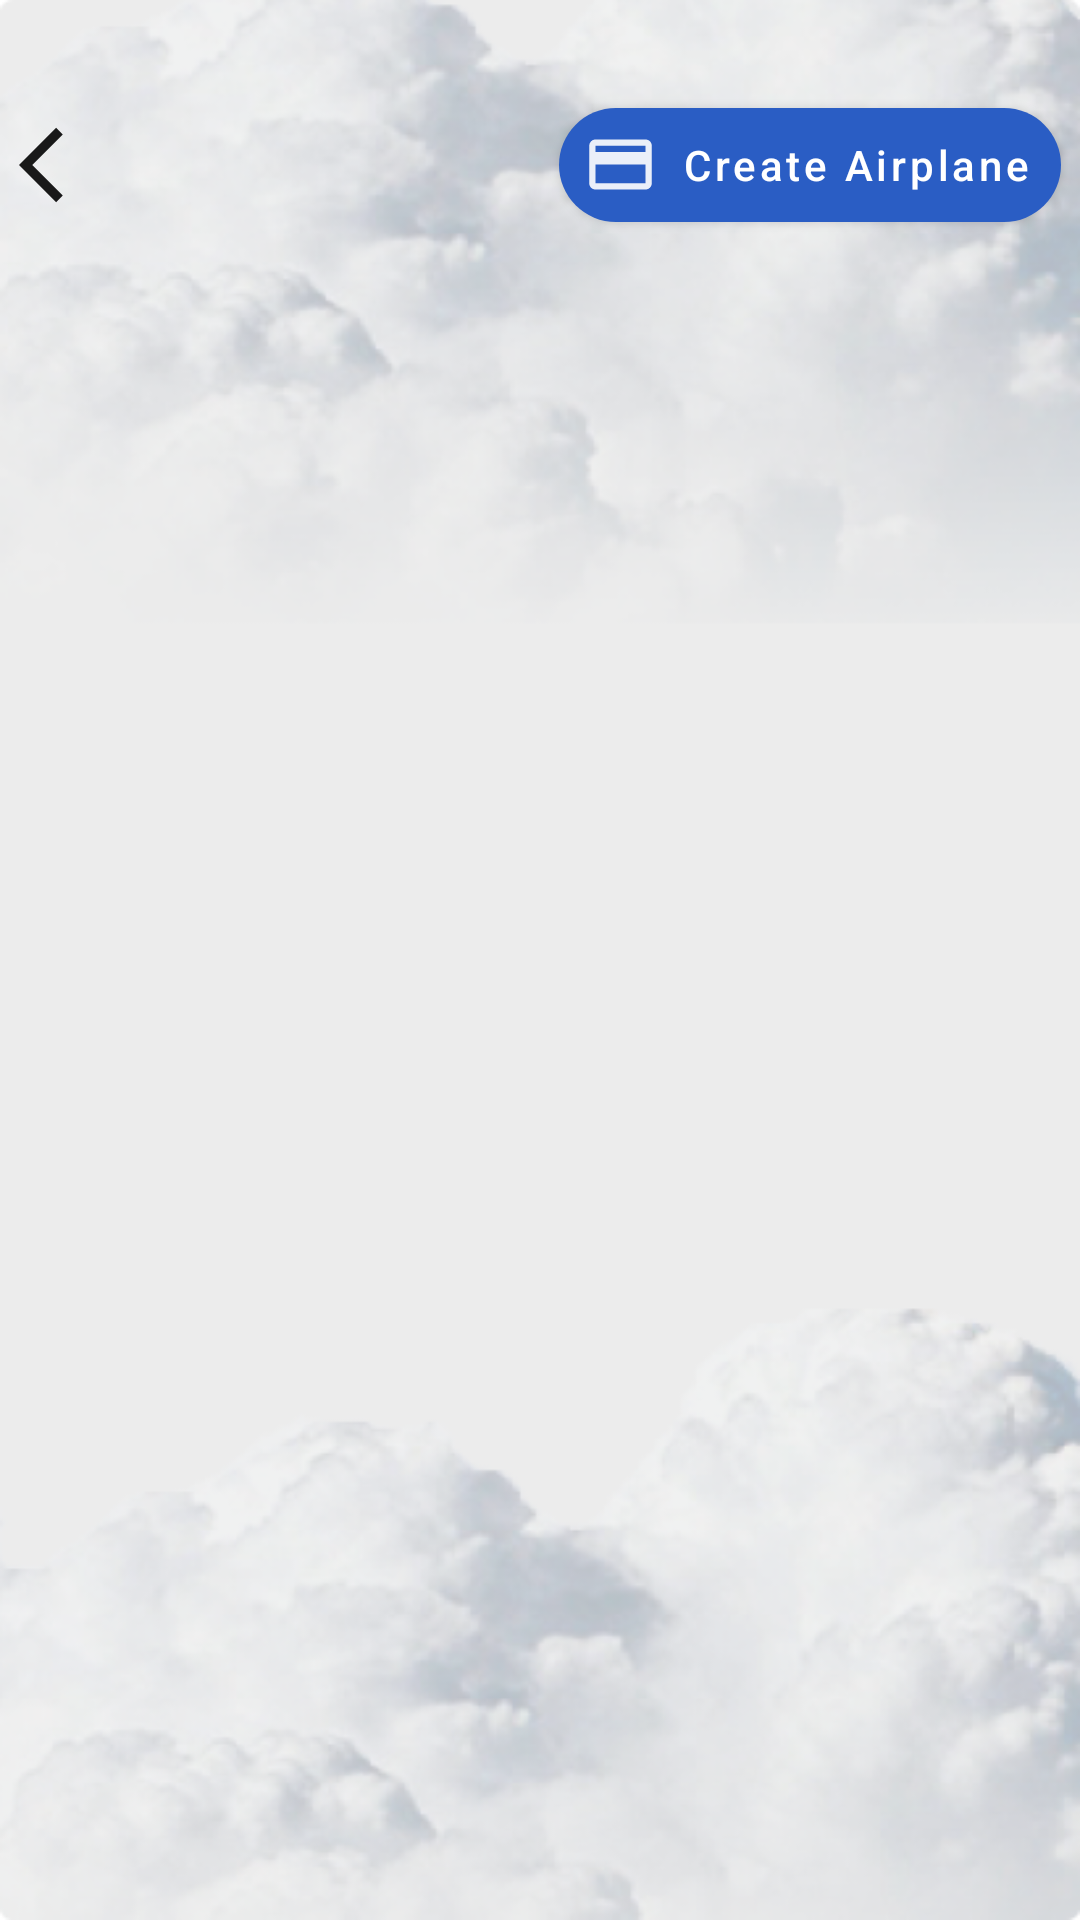

Where to tap for icons on this 1080x1920 app screen, as [x,y]:
arrow back: [41,165]
